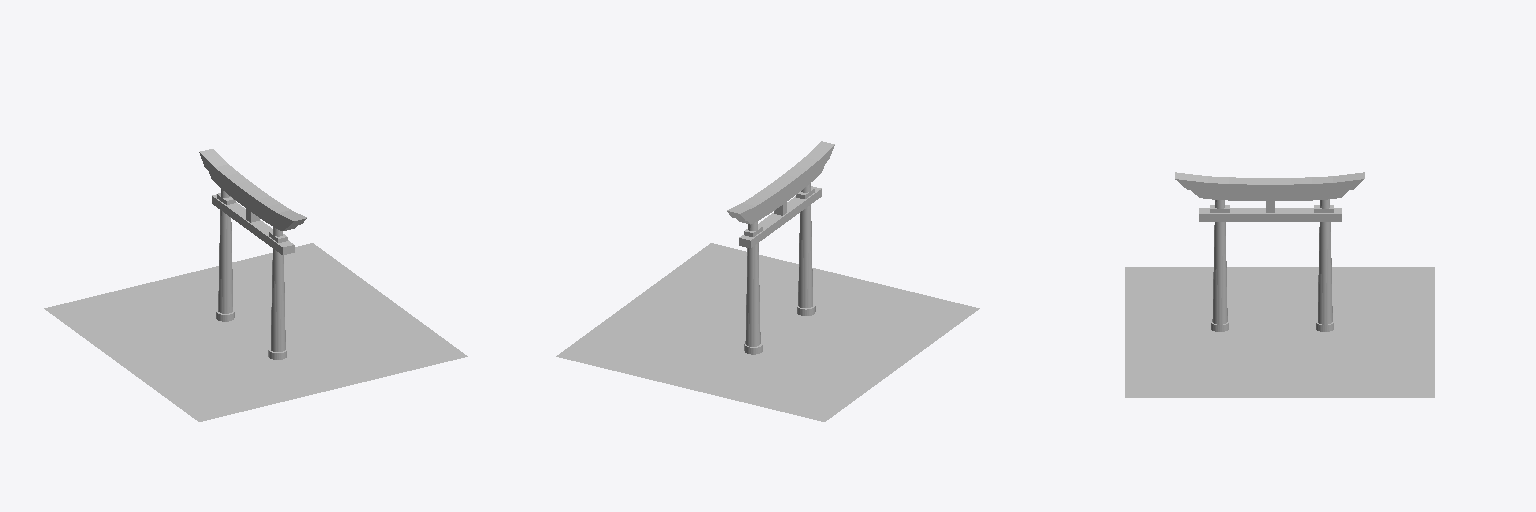
File: Gate.obj
3 views of the same model, side by side, from view 1: azimuth 30°, elevation 25°; view 2: azimuth 150°, elevation 25°; view 3: azimuth 270°, elevation 25° (orthographic).
Visible parts, largest first — view 1: Plane, Cube.002_Cube.007, Cylinder.002, Cylinder.001, Cube_Cube.005, Cube.006_Cube.011; view 2: Plane, Cube.002_Cube.007, Cylinder.001, Cylinder.002, Cube_Cube.005, Cube.006_Cube.011; view 3: Plane, Cube.002_Cube.007, Cube_Cube.005, Cylinder.002, Cylinder.001, Cube.006_Cube.011.
Part boxes in pixels (x1,y1,x2,y2): Plane: (44, 243, 467, 421); Cube.002_Cube.007: (199, 149, 306, 227); Cylinder.002: (271, 227, 285, 351); Cylinder.001: (218, 189, 232, 313); Cube_Cube.005: (212, 194, 294, 254); Cube.006_Cube.011: (209, 172, 297, 230); Plane: (556, 243, 979, 421); Cube.002_Cube.007: (727, 141, 834, 220); Cylinder.001: (745, 221, 760, 346); Cylinder.002: (798, 183, 812, 307); Cube_Cube.005: (739, 186, 821, 248); Cube.006_Cube.011: (737, 163, 825, 224); Plane: (1125, 267, 1434, 397); Cube.002_Cube.007: (1175, 172, 1364, 193); Cube_Cube.005: (1199, 208, 1341, 221); Cylinder.002: (1212, 200, 1227, 324); Cylinder.001: (1318, 199, 1332, 324); Cube.006_Cube.011: (1192, 191, 1347, 200).
Size of the model in its own units: 10 by 5.44 by 10.